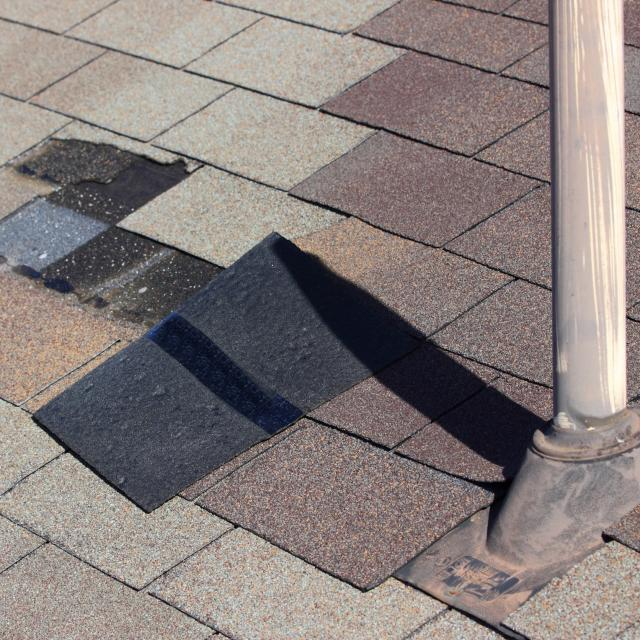damage: (0, 134, 433, 519)
